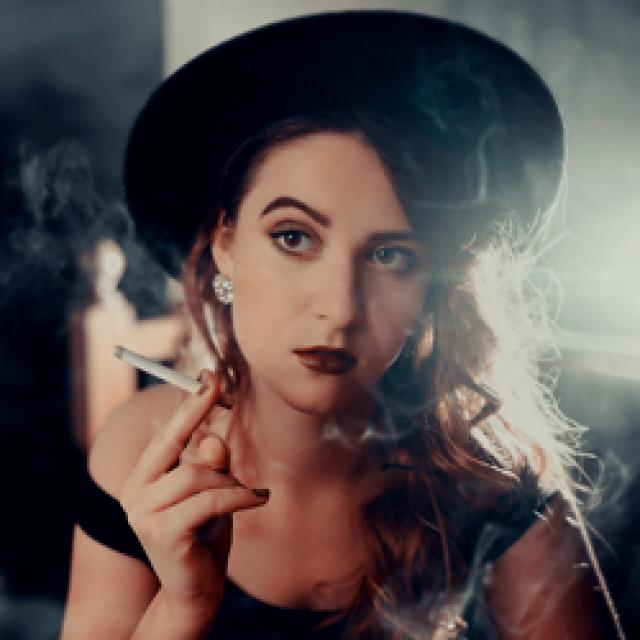Smooking: (100, 338, 210, 400)
